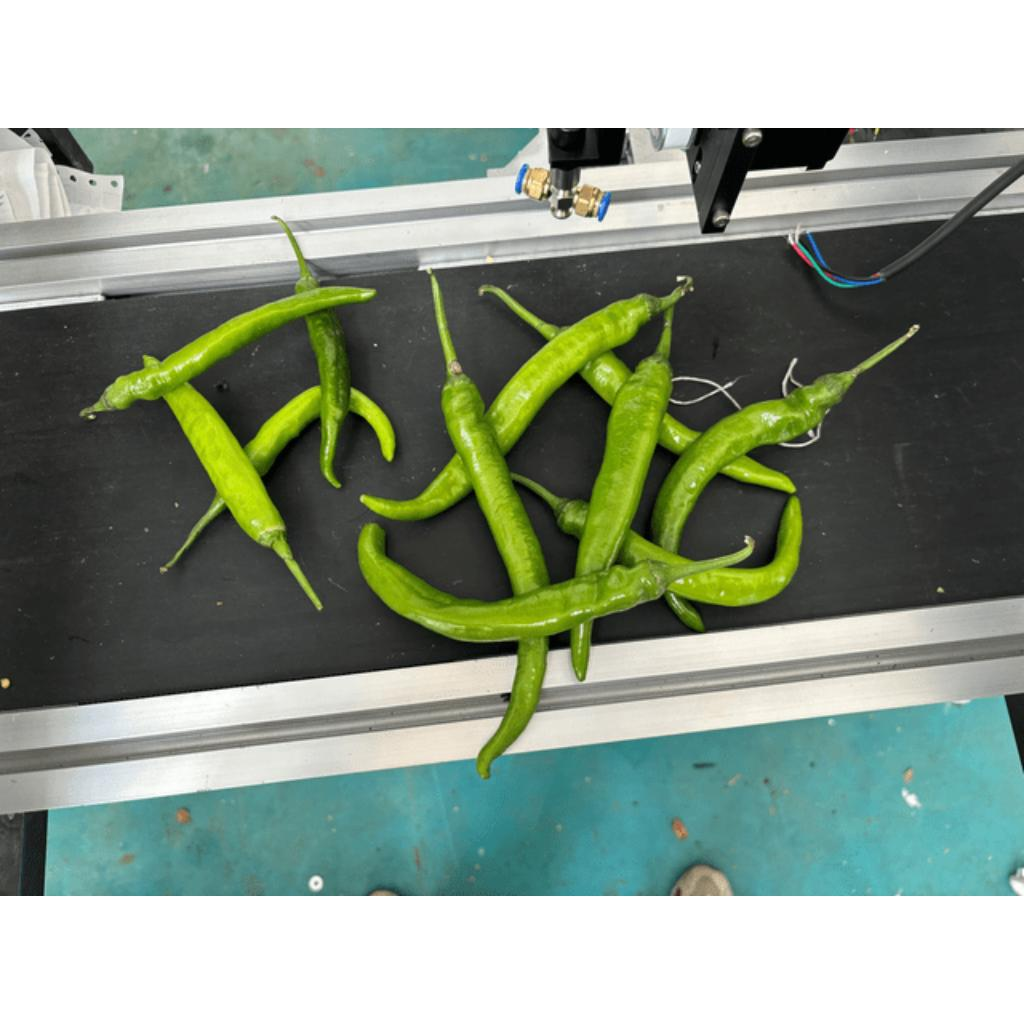chili: (356, 290, 663, 525), (651, 370, 856, 633), (438, 373, 550, 784), (550, 322, 799, 494), (355, 519, 675, 646), (99, 283, 381, 414), (568, 353, 675, 685), (140, 351, 293, 547), (556, 491, 804, 610), (213, 377, 399, 510), (292, 273, 353, 493)
